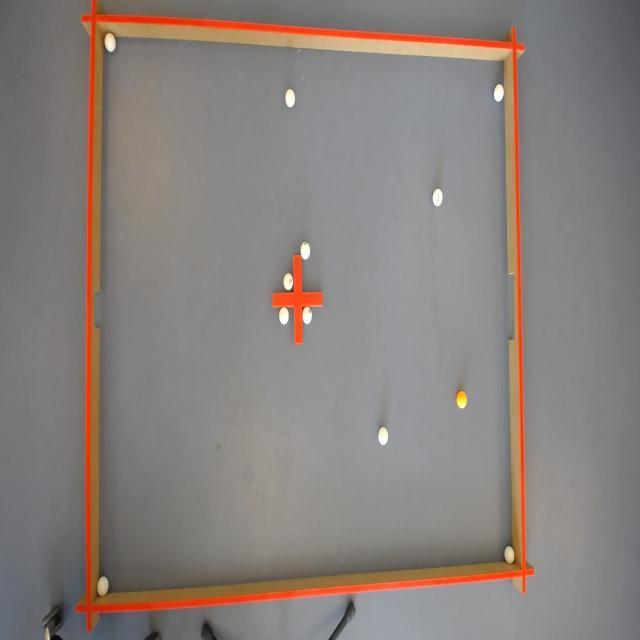orange: (454, 389, 467, 410)
white: (283, 86, 296, 110), (491, 83, 504, 104), (95, 576, 108, 596), (377, 426, 389, 446), (504, 544, 516, 564), (433, 187, 444, 208), (300, 241, 313, 258), (102, 35, 114, 52), (278, 306, 288, 325), (282, 270, 292, 288), (302, 306, 312, 324)
